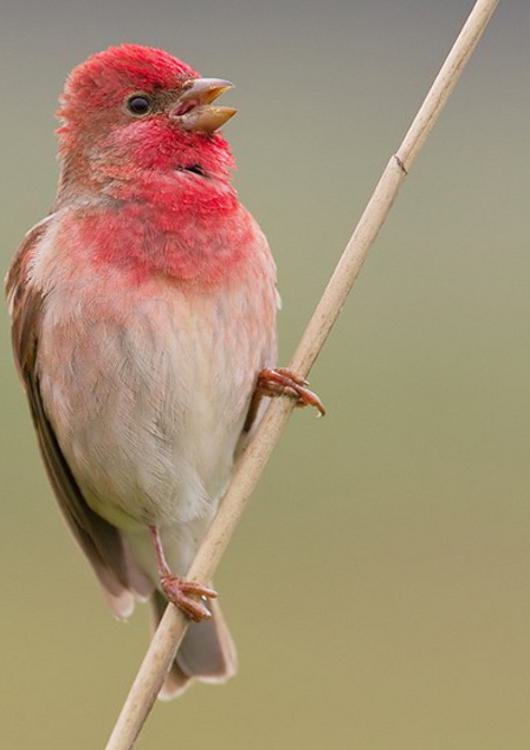rosefinch: (28, 46, 302, 633)
